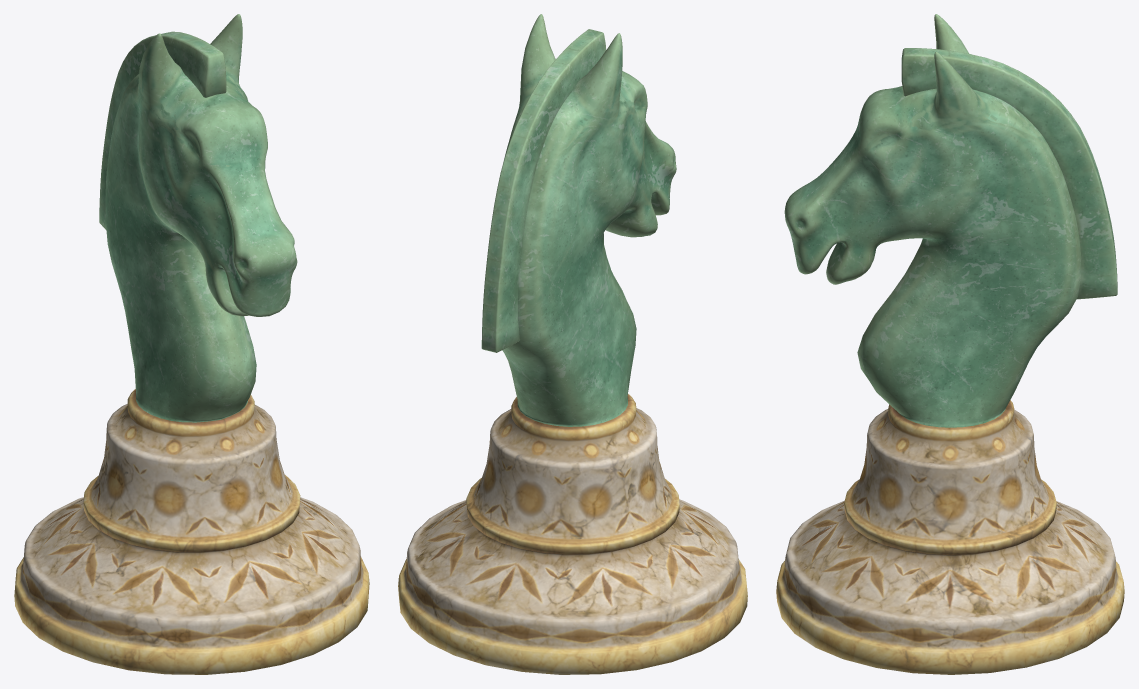
The picture shows the model from 3 angles, left to right: view 1: azimuth 30°, elevation 25°; view 2: azimuth 150°, elevation 25°; view 3: azimuth 270°, elevation 25°; orthographic projection. The views are drawn at different scales.
Parts seen in each view (by area): view 1: LP_00_Plane.002; view 2: LP_00_Plane.002; view 3: LP_00_Plane.002.
Part boxes in pixels (x1,y1,x2,y2): LP_00_Plane.002: [14, 14, 369, 674]; LP_00_Plane.002: [398, 14, 747, 674]; LP_00_Plane.002: [776, 14, 1124, 674].
Size of the model in its own units: 0.2447 by 0.4417 by 0.2447.
1 material, 1 textured.
